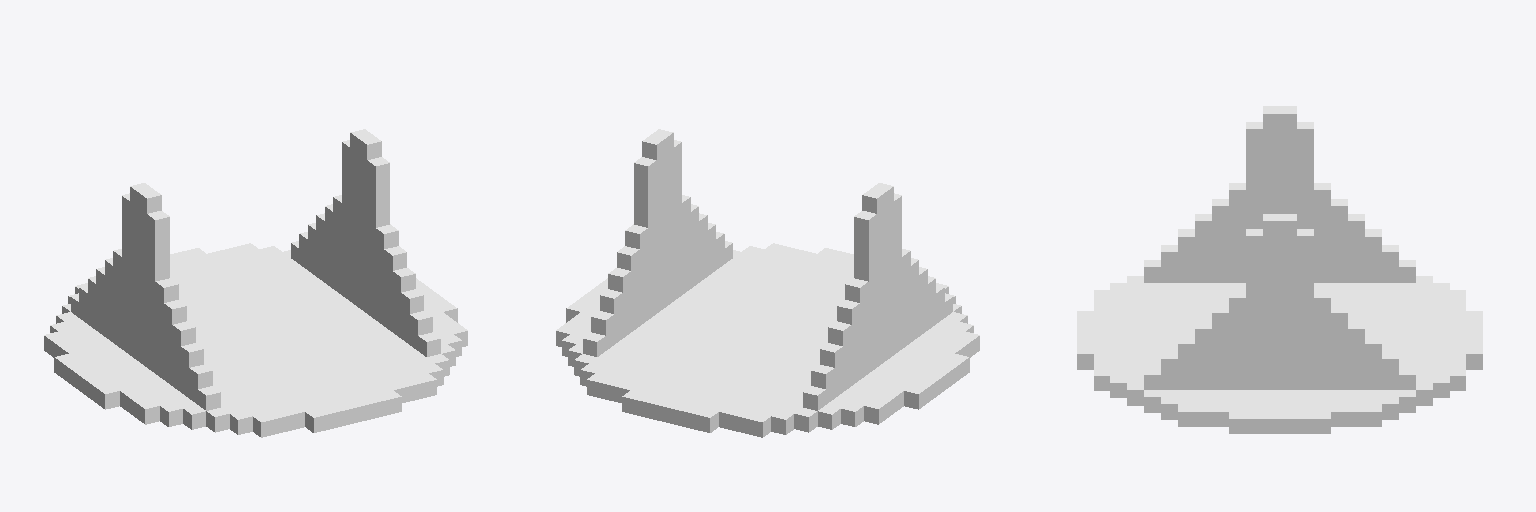
The model's file is Boss-3.obj.
3 renders of one model, left to right at view 1: azimuth 30°, elevation 25°; view 2: azimuth 150°, elevation 25°; view 3: azimuth 270°, elevation 25°, orthographic.
Visible parts, largest first — view 1: Boss-3; view 2: Boss-3; view 3: Boss-3.
Boxes of the visible parts, x1=… form: Boss-3: x1=44, y1=129, x2=467, y2=437; Boss-3: x1=556, y1=129, x2=979, y2=437; Boss-3: x1=1077, y1=106, x2=1482, y2=433.
Size of the model in its own units: 24 by 12 by 24.